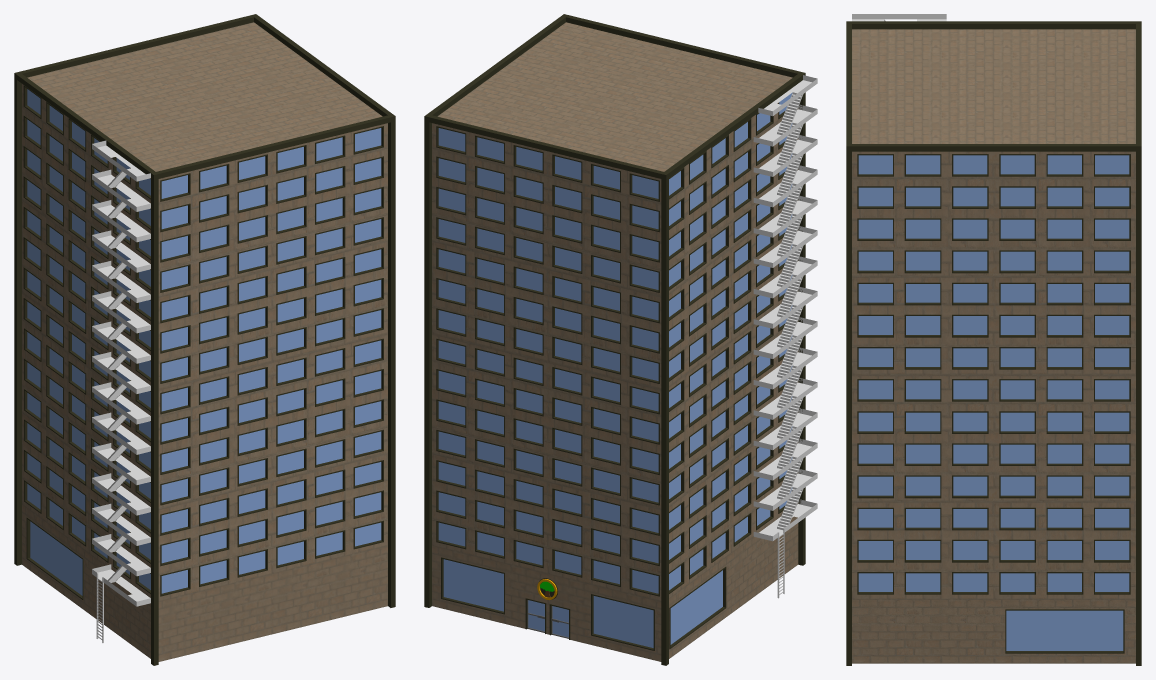
Rendered from building.fbx.
3 views of the same model, side by side, from view 1: azimuth 30°, elevation 25°; view 2: azimuth 150°, elevation 25°; view 3: azimuth 270°, elevation 25° (orthographic). The views are drawn at different scales.
Visible parts, largest first — view 1: building, rim, Fire Escape; view 2: building, rim, Fire Escape; view 3: building, rim, Fire Escape.
Part boxes in pixels (left/top/right/bottom): building: left=22, top=22, right=387, bottom=661; rim: left=14, top=14, right=395, bottom=665; Fire Escape: left=92, top=140, right=150, bottom=642; building: left=432, top=22, right=798, bottom=661; rim: left=424, top=14, right=805, bottom=665; Fire Escape: left=753, top=75, right=817, bottom=598; building: left=852, top=29, right=1135, bottom=663; rim: left=846, top=21, right=1141, bottom=665; Fire Escape: left=852, top=14, right=946, bottom=21.
Bounding box in the file's own units: 2655 × 4850 × 2500.
